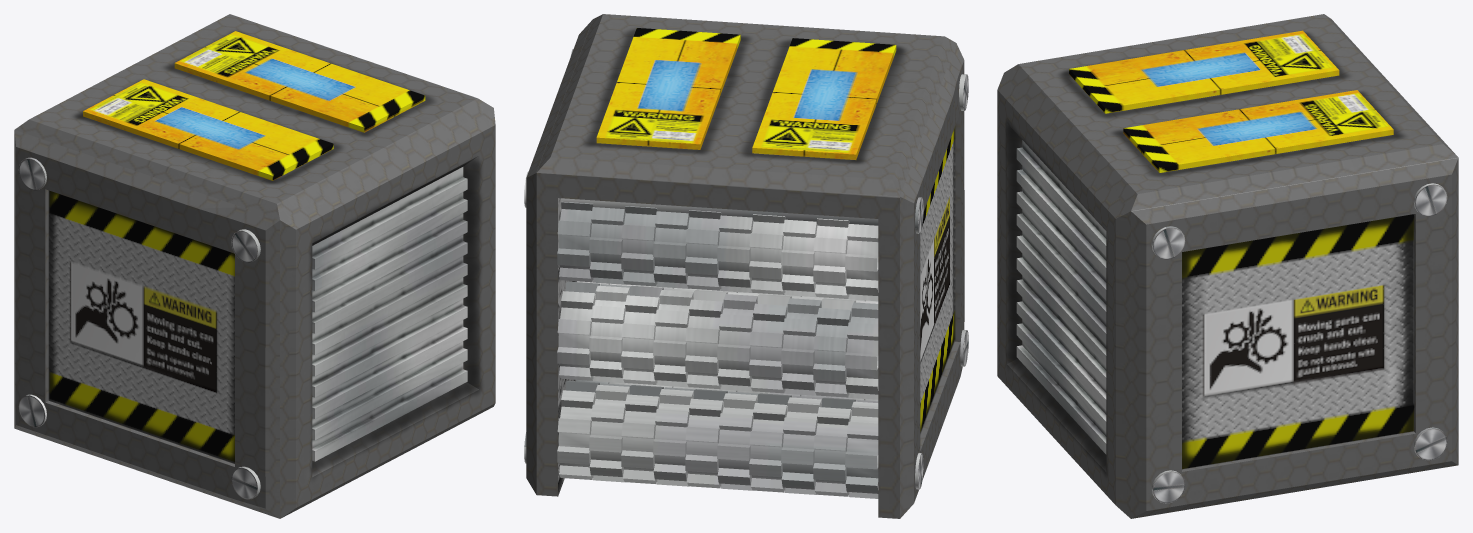
Rendered from Crusher(Rotate).fbx.
The picture shows the model from 3 angles, left to right: view 1: azimuth 30°, elevation 25°; view 2: azimuth 150°, elevation 25°; view 3: azimuth 270°, elevation 25°; orthographic projection. The views are drawn at different scales.
Visible parts, largest first — view 1: Crusher; view 2: Crusher, Crusher_Rotate_; view 3: Crusher.
Boxes of the visible parts, x1,y1,x2,y2 form: Crusher: [14, 14, 495, 518]; Crusher: [524, 14, 968, 518]; Crusher_Rotate_: [557, 201, 878, 498]; Crusher: [997, 14, 1458, 518].
Bounding box in the file's own units: 204 × 155 × 200.
